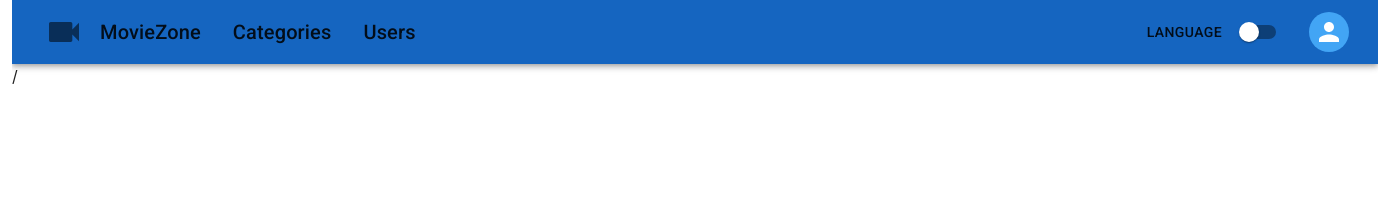
Test: Language menu works
Click the button with test id "navbar-language-menu".
click(1184, 32)  # box x1=1139 y1=14 x2=1230 y2=50
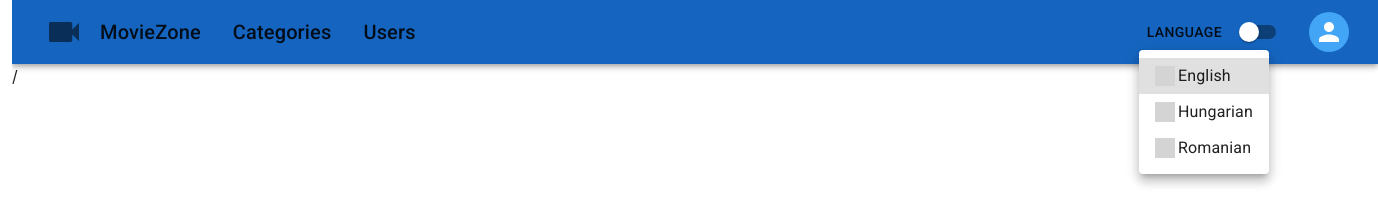
Expected: the menu item with test id "navbar-language-en" reads "English", x1=1139 y1=58 x2=1269 y2=94
Expected: the menu item with test id "navbar-language-hu" reads "Hungarian", x1=1155 y1=102 x2=1253 y2=122
